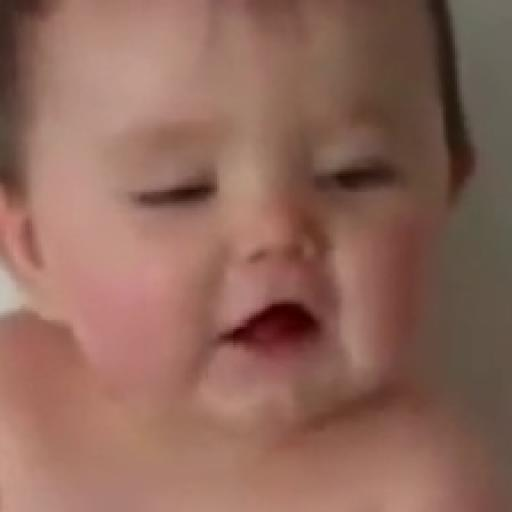Autism: (0, 12, 499, 467)
